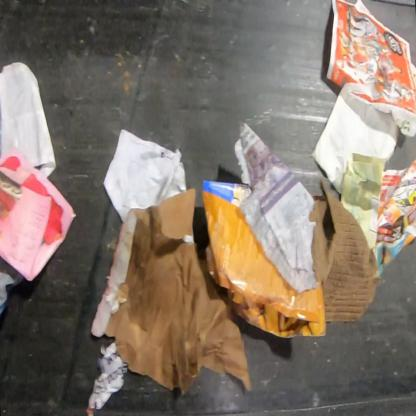cardboard: (201, 181, 326, 338), (310, 175, 381, 322)
